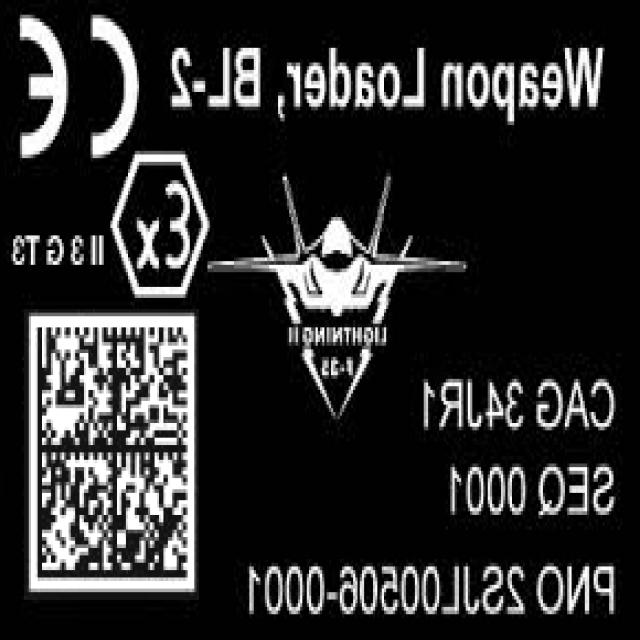DataMatrix: (24, 309, 199, 600)
